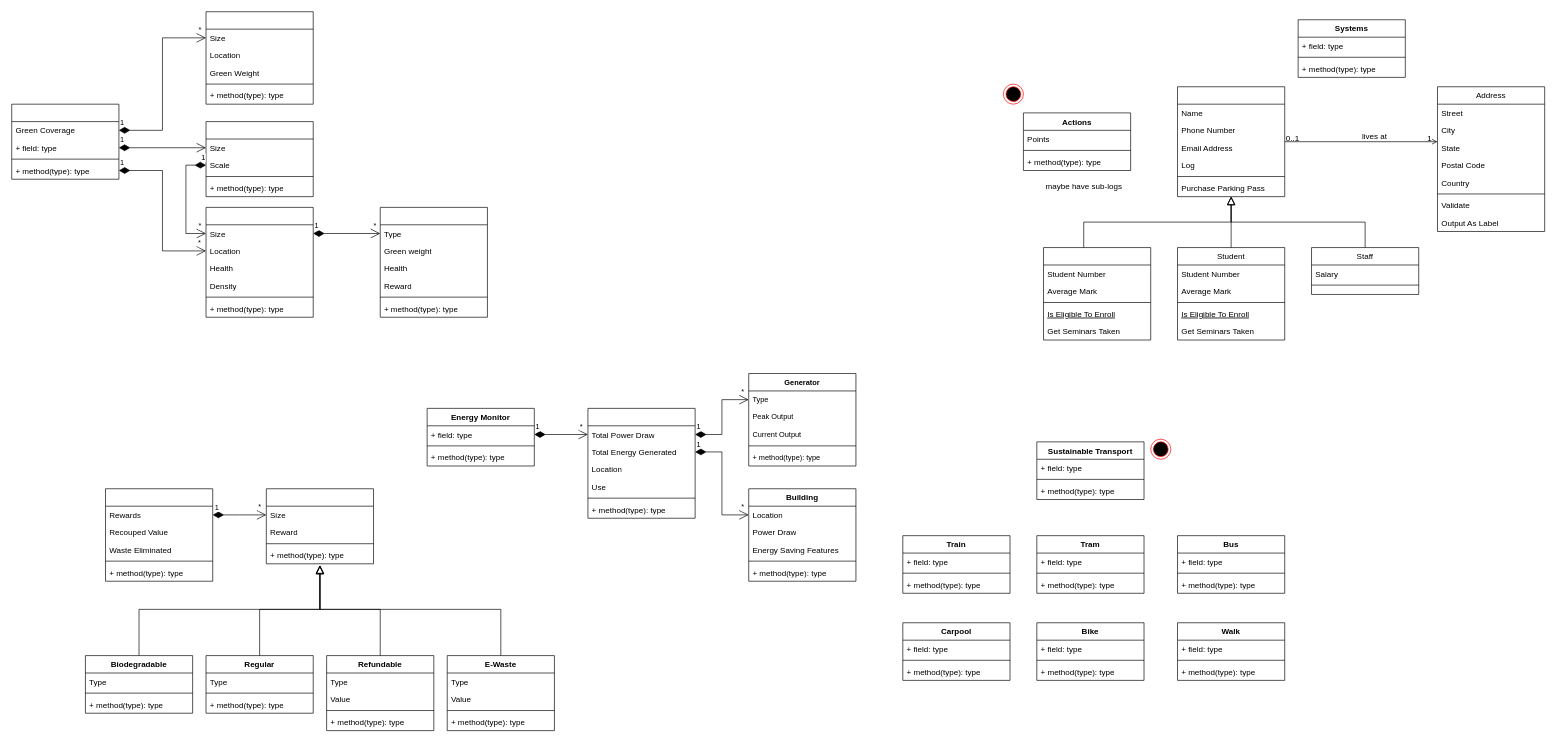
This 1556x744 diagram has some shape labels left out. Each missing label, with the box of its shape:
Green Space: (205, 207, 313, 317)
Green Spaces: (11, 104, 119, 179)
Map: (205, 121, 313, 197)
Office Admin: (1043, 247, 1151, 340)
Recyclable: (266, 488, 374, 564)
Recylcing: (105, 488, 213, 581)
Subsystem: (587, 408, 695, 518)
Tree: (380, 207, 487, 317)
User: (1177, 86, 1285, 197)
Veggie Patch: (205, 11, 313, 104)
